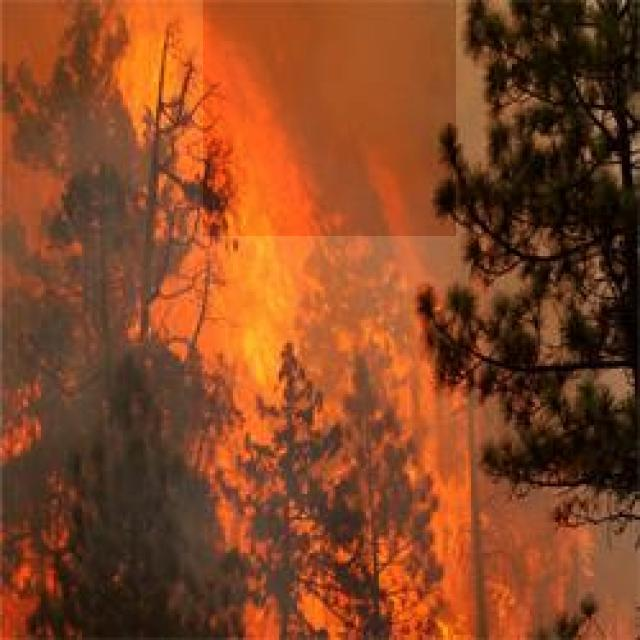Fire: (2, 0, 578, 640)
Smoke: (203, 0, 456, 236)
